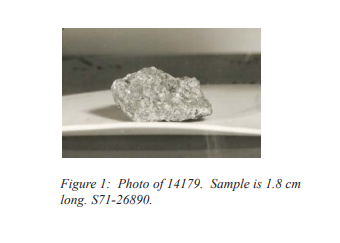Breccia: (79, 45, 235, 132)
